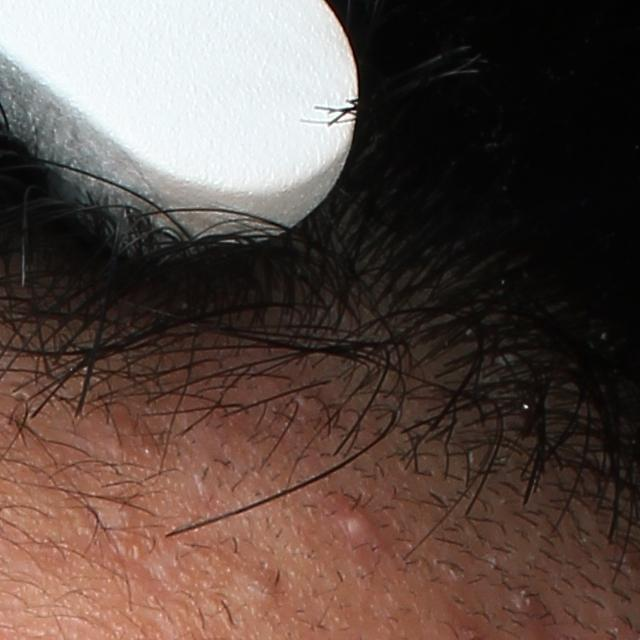comedo: (92, 492, 148, 532)
pustule: (329, 494, 376, 543)
